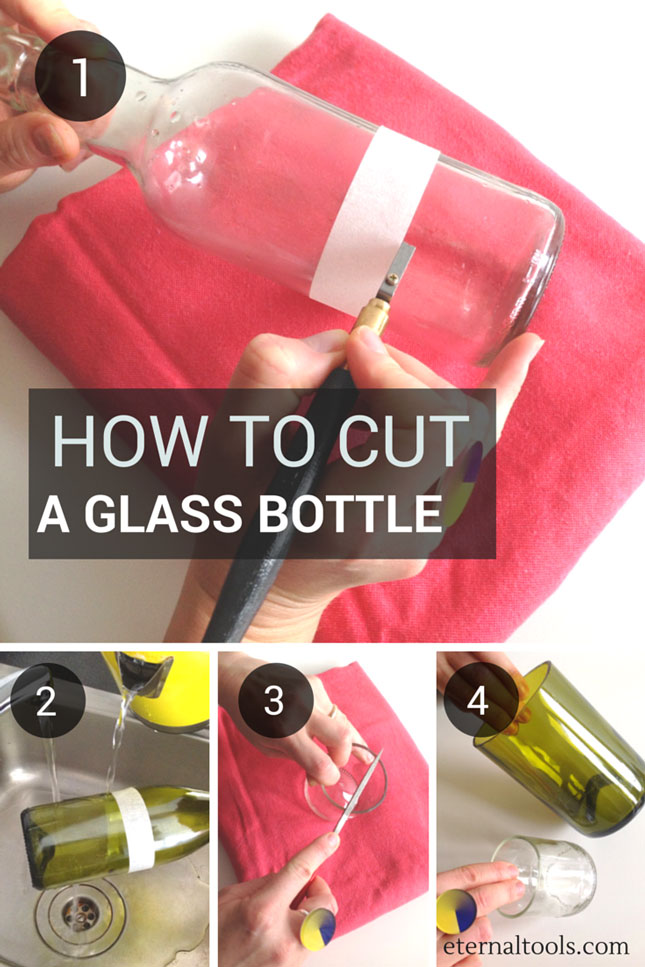glass_bottle: (1, 15, 570, 373)
